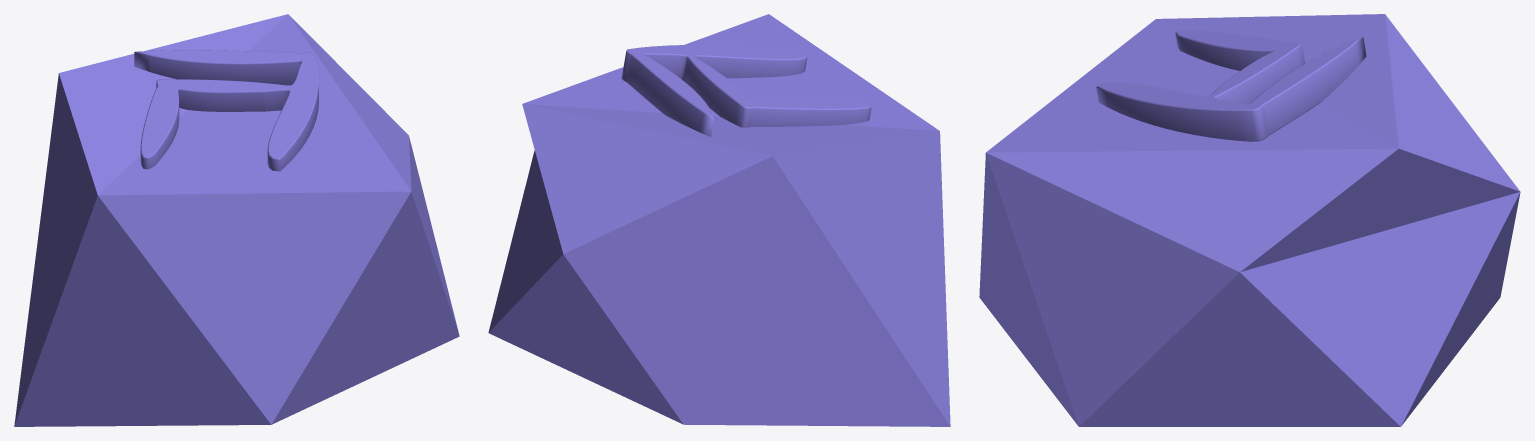
The model's file is birinci.fbx.
3 views of the same model, side by side, from view 1: azimuth 30°, elevation 25°; view 2: azimuth 150°, elevation 25°; view 3: azimuth 270°, elevation 25° (orthographic). The views are drawn at different scales.
Visible parts, largest first — view 1: Icosphere, Curve; view 2: Icosphere, Curve; view 3: Icosphere, Curve.
Part boxes in pixels (x1,y1,x2,y2): Icosphere: (14,14,459,426); Curve: (134,50,318,171); Icosphere: (488,14,950,426); Curve: (621,45,871,136); Icosphere: (979,14,1520,426); Curve: (1096,30,1366,141).
Bounding box in the file's own units: 252 × 180 × 262.
